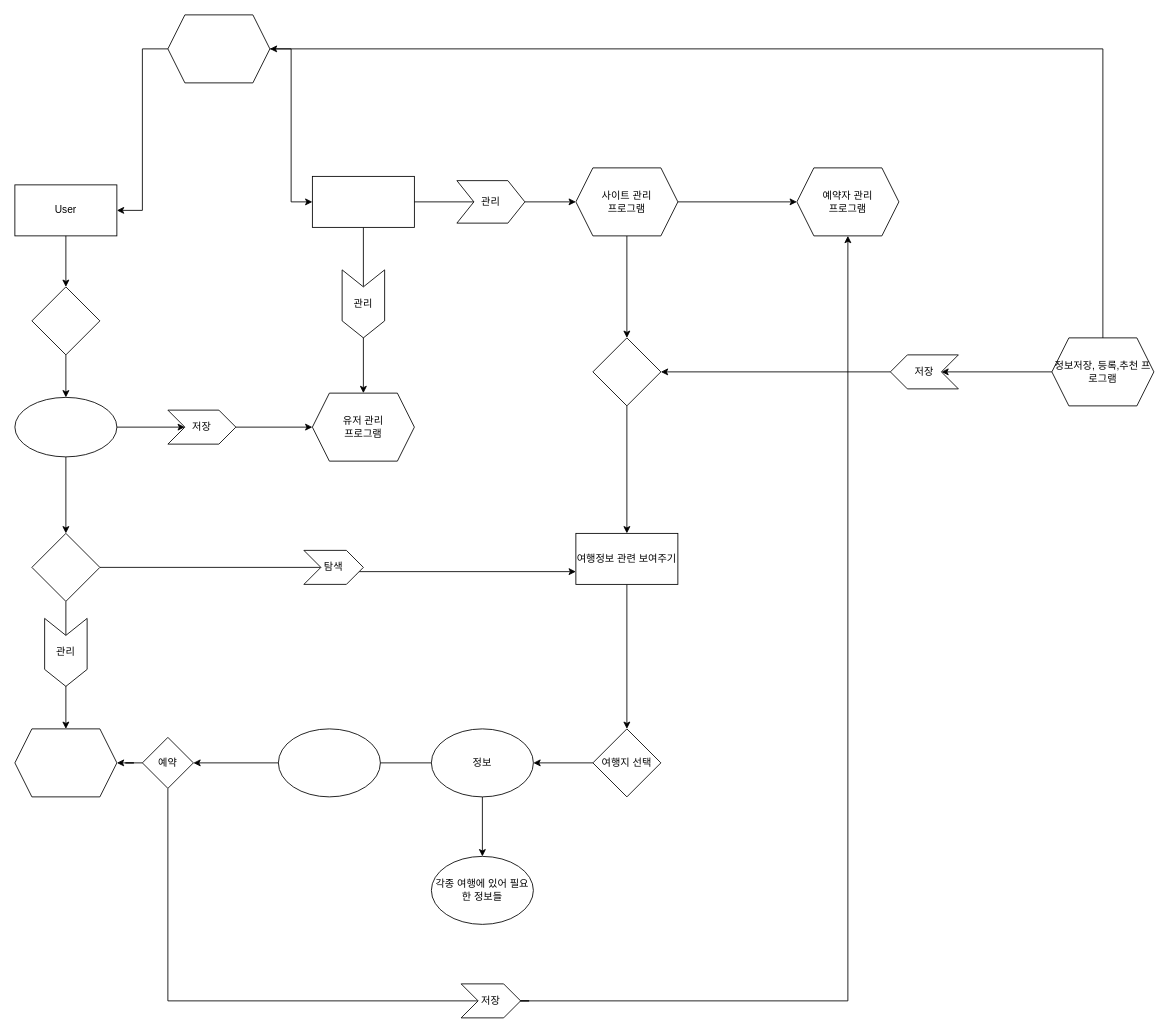
Image size: 1169x1033. Some labels were removed from this diagram. The centre of each missing label's shape, as x and y in pixels:
Admin: point 363,201
각종 정보 수집: point 626,371
계획 관리 프로그램: point 65,762
로그인: point 65,567
여행계획서: point 329,762
여행예약 프로그램: point 218,48
유저 정보: point 65,427
회원가입: point 65,320
